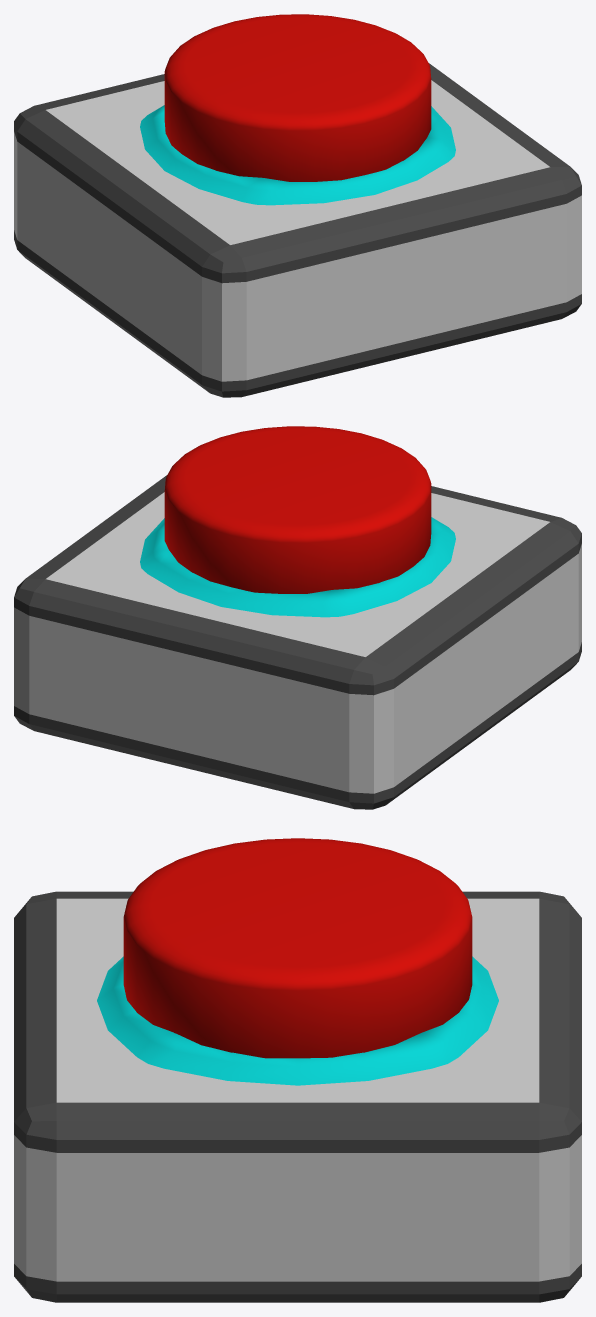
File: Button.fbx
3 renders of one model, top to bottom at view 1: azimuth 30°, elevation 25°; view 2: azimuth 150°, elevation 25°; view 3: azimuth 270°, elevation 25°, orthographic. The views are drawn at different scales.
Parts seen in each view (by area): view 1: Button_01, Button_00; view 2: Button_01, Button_00; view 3: Button_01, Button_00.
Part boxes in pixels (x1,y1,x2,y2): Button_01: (14, 63, 581, 397); Button_00: (164, 14, 431, 181); Button_01: (14, 475, 581, 809); Button_00: (164, 426, 431, 593); Button_01: (14, 891, 581, 1302); Button_00: (123, 838, 472, 1058).
Bounding box in the file's own units: 12.5 × 7.01 × 12.5.
